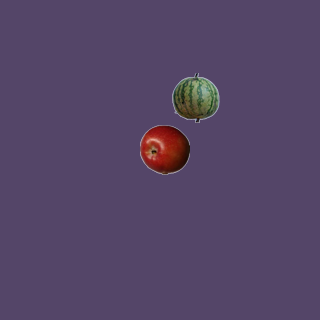Apple Braeburn: (139, 124, 189, 174)
Watermelon: (170, 72, 220, 122)
